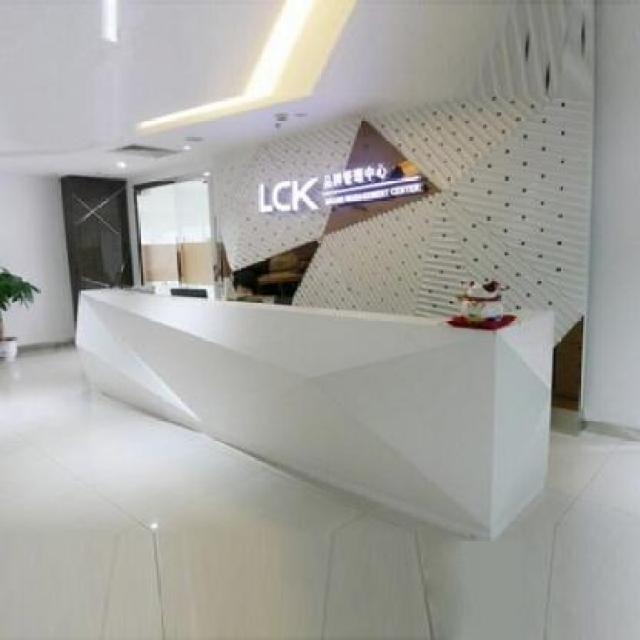frontdesk: (69, 275, 560, 550)
